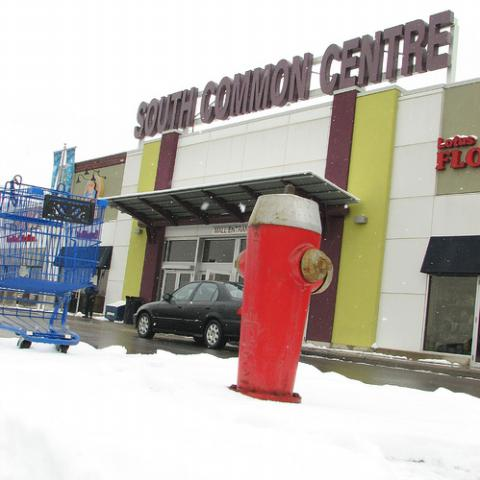car: (132, 282, 245, 350)
